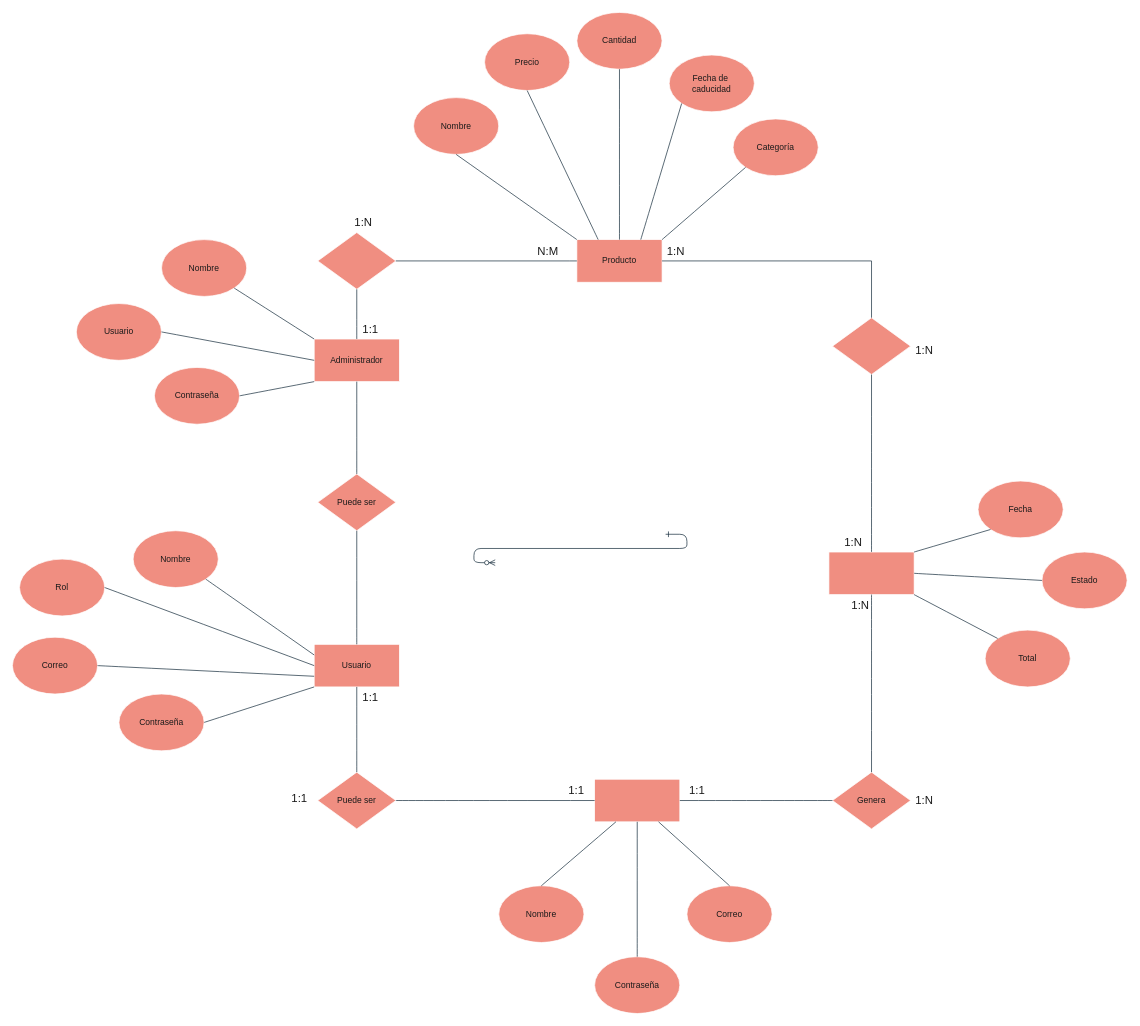
The diagram is 1140 pixels wide and 1026 high, and some of its shapes have lost their labels. The shapes that lost their labels are listed below. From the top down, each one's centre as x and y in pixels, then its label:
pixel 356 260: Agrega
pixel 871 346: Contiene
pixel 871 573: Pedido
pixel 637 800: Cliente
